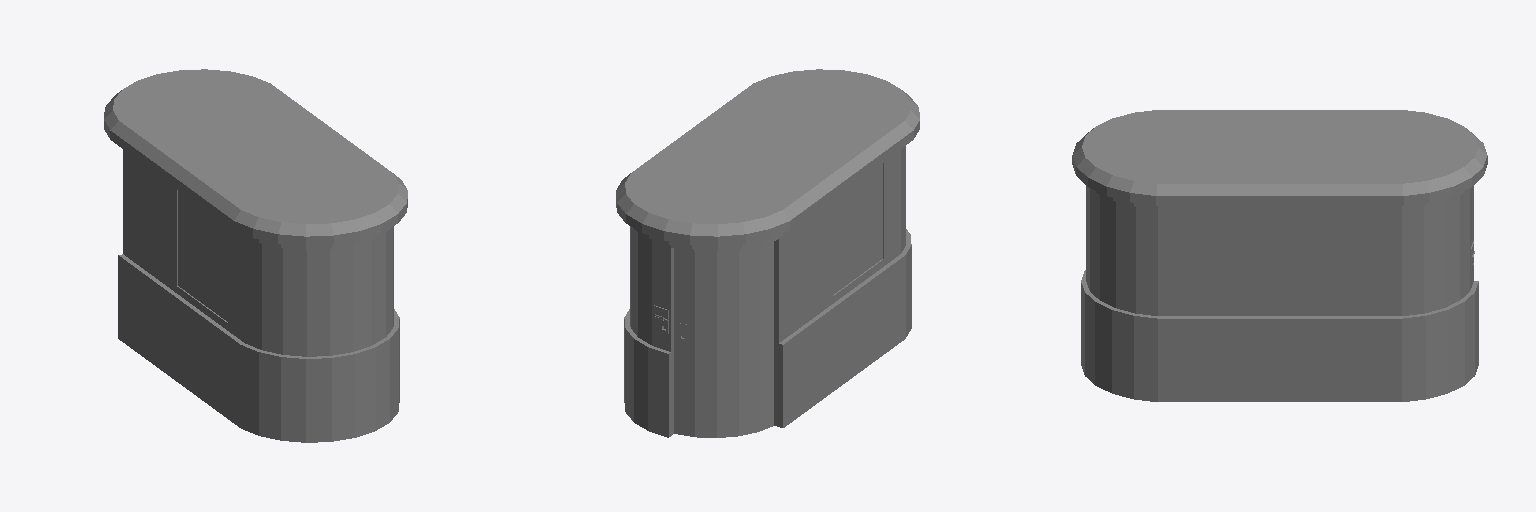
The model's file is rest.obj.
3 renders of one model, left to right at view 1: azimuth 30°, elevation 25°; view 2: azimuth 150°, elevation 25°; view 3: azimuth 270°, elevation 25°, orthographic.
Parts seen in each view (by area): view 1: skpCB54_00; view 2: skpCB54_00; view 3: skpCB54_00.
Boxes of the visible parts, x1=… form: skpCB54_00: x1=104, y1=69, x2=407, y2=442; skpCB54_00: x1=616, y1=69, x2=919, y2=437; skpCB54_00: x1=1072, y1=110, x2=1487, y2=401.
Size of the model in its own units: 84 by 104 by 180.